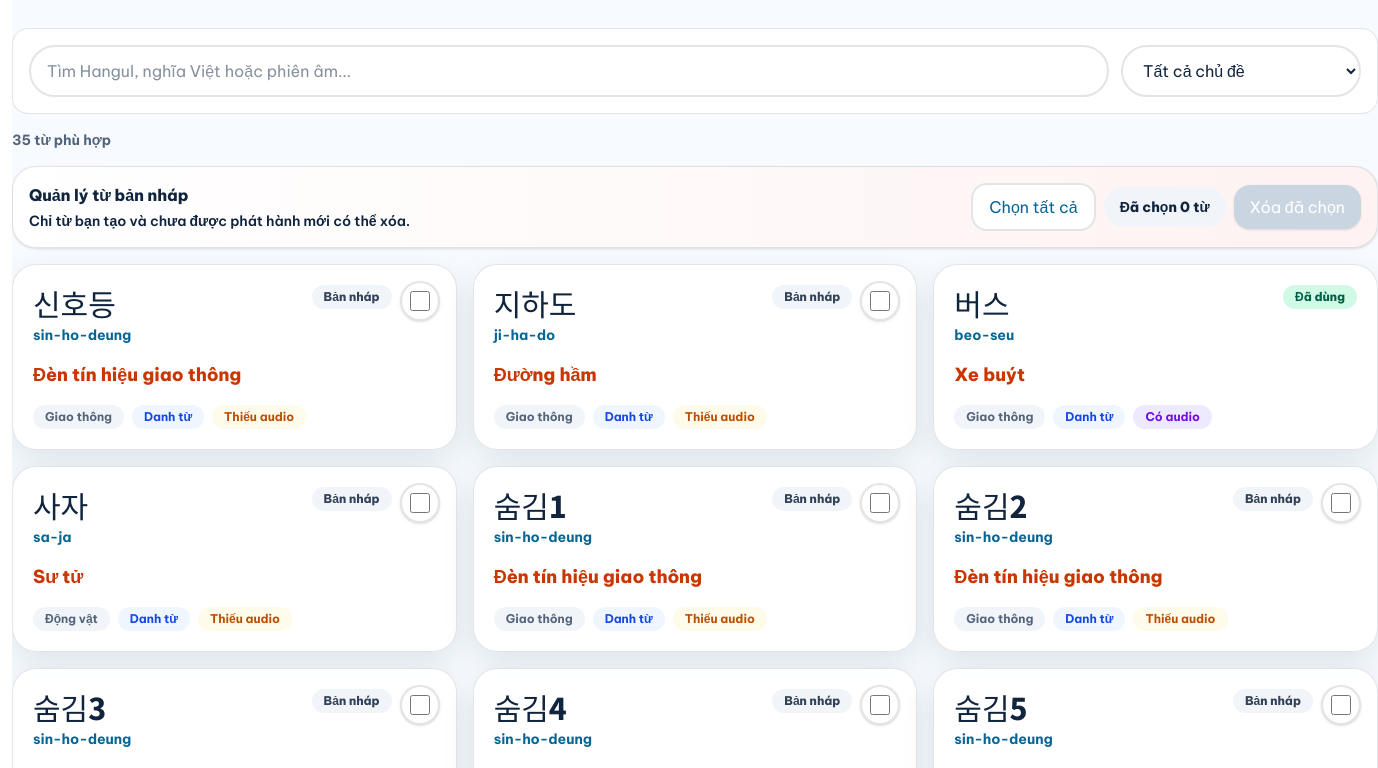
Test: VocabularyLibrary bulk deletion › chọn tất cả chỉ lấy các từ có quyền xóa trong chủ đề đang lọc
Select "Giao thông" in the dropdown named "Lọc theo chủ đề" at (1241, 71), box x1=1121 y1=45 x2=1361 y2=97
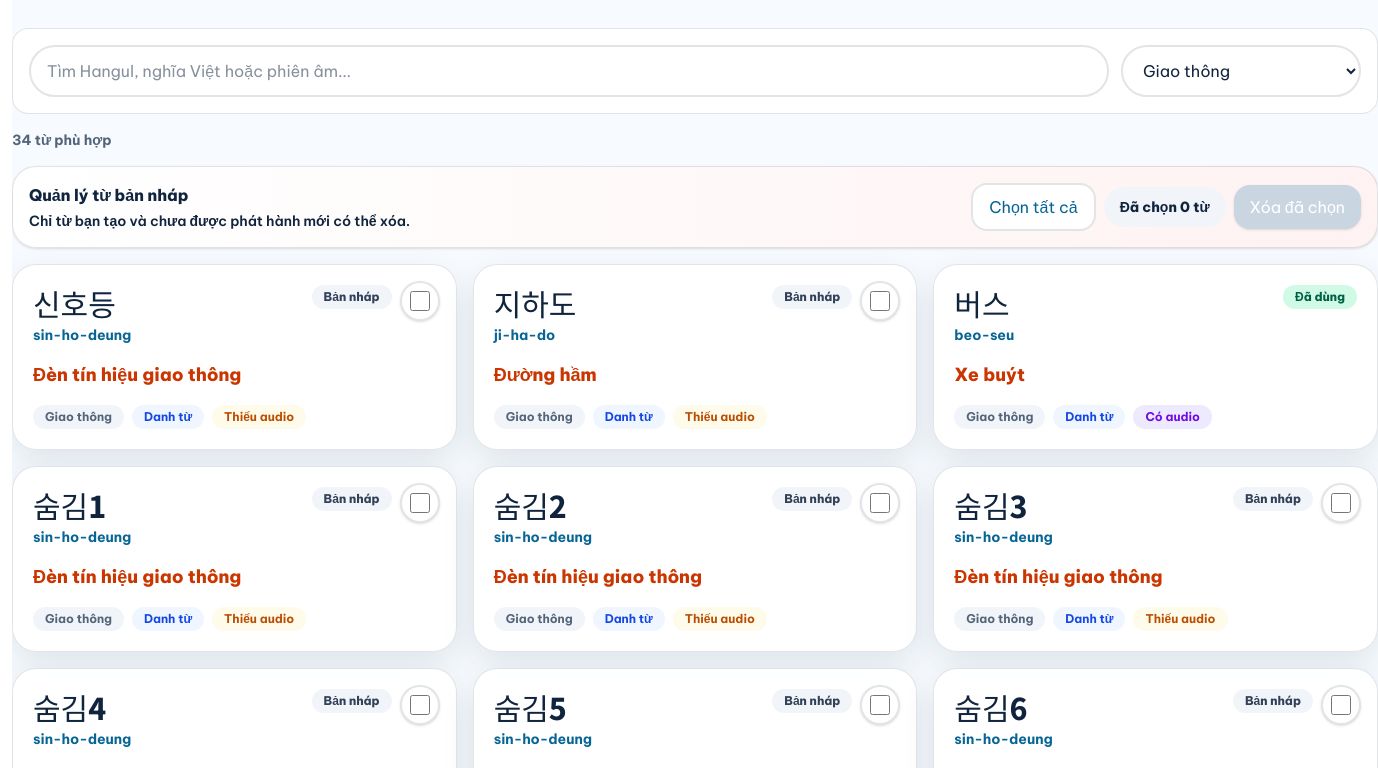
Click the button with aria-label "Chọn tất cả 33 từ có thể xóa" at (1033, 207), box x1=971 y1=183 x2=1096 y2=231
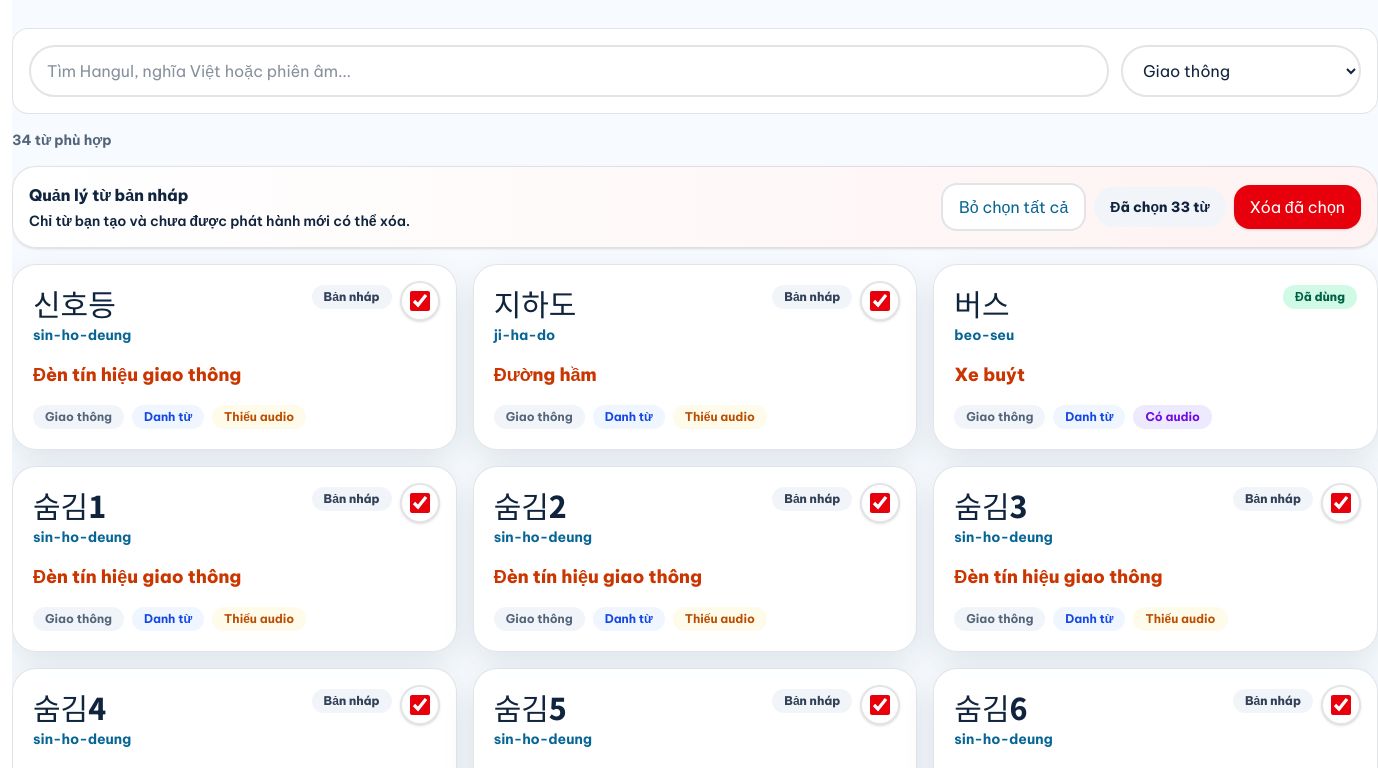
Expected: the text "Đã chọn 33 từ" is shown, x1=1094 y1=187 x2=1226 y2=227
